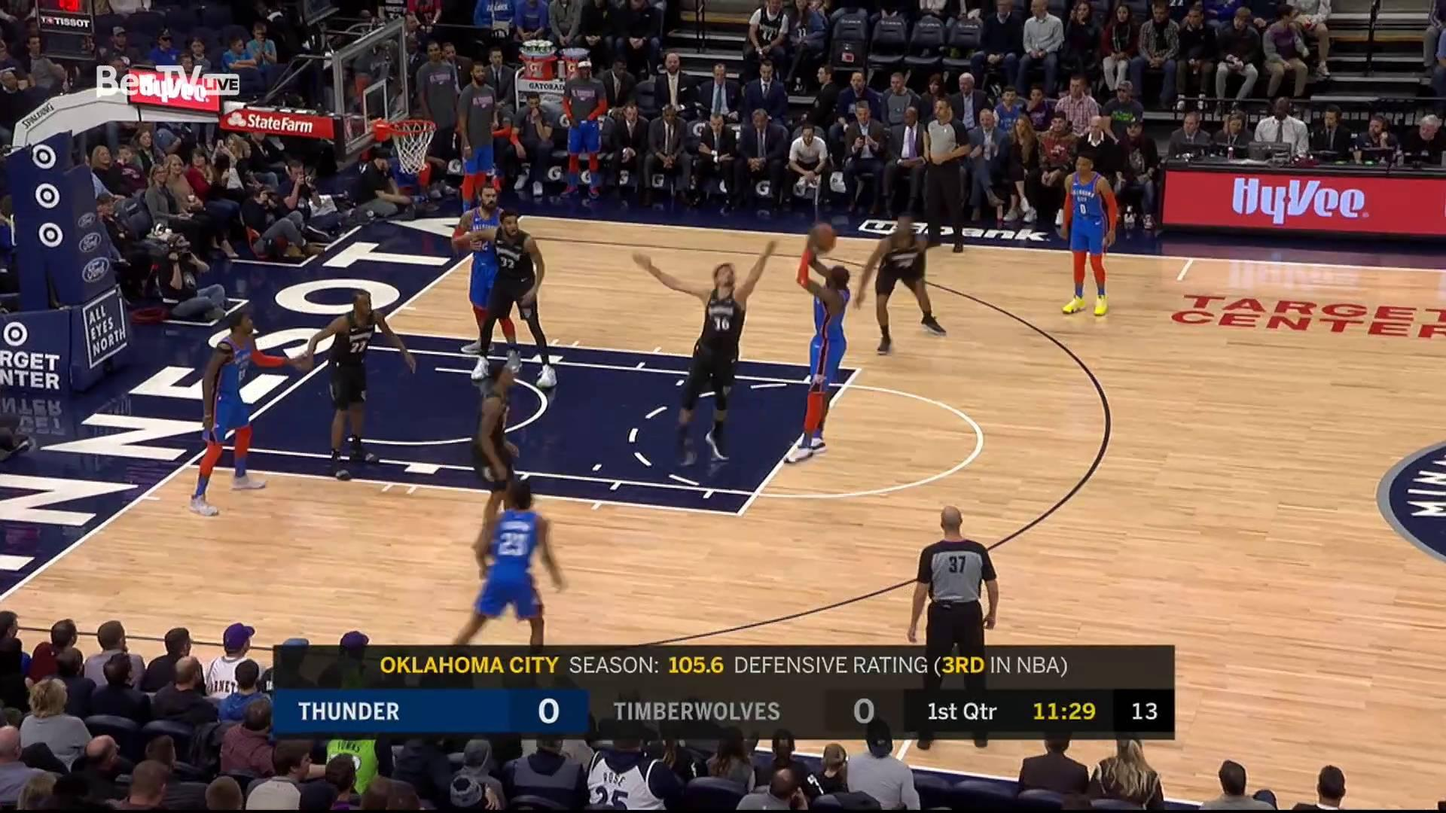basketball: (807, 222, 837, 253)
